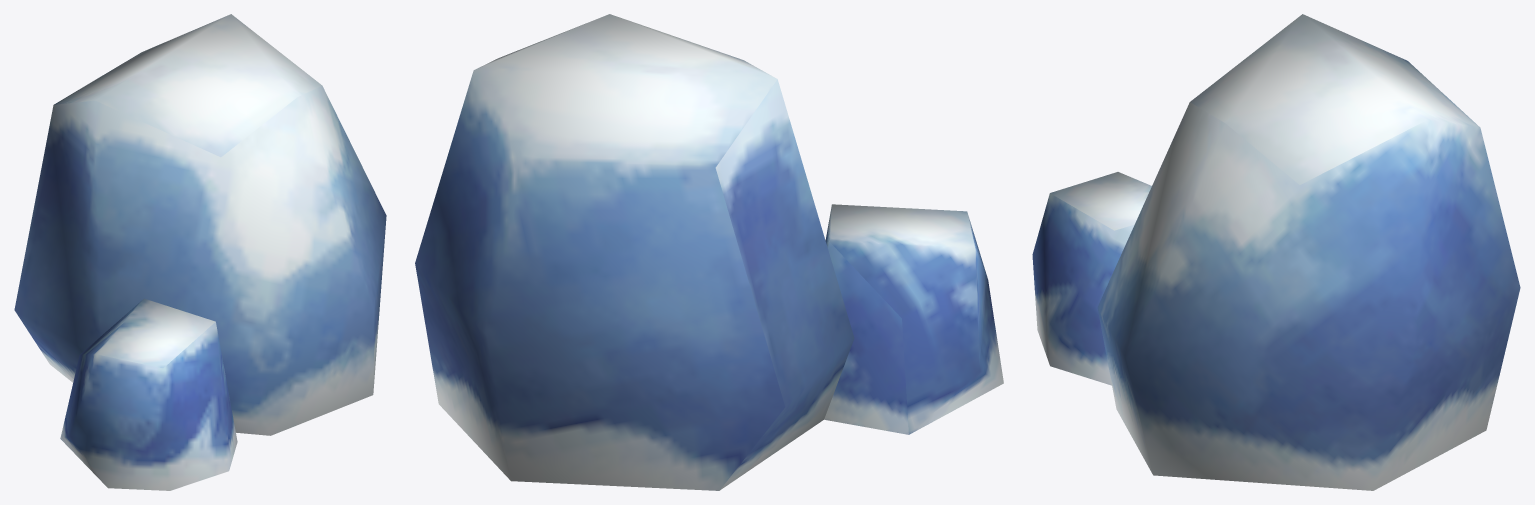
The model's file is SM_stoneB_05.fbx.
3 renders of one model, left to right at view 1: azimuth 30°, elevation 25°; view 2: azimuth 150°, elevation 25°; view 3: azimuth 270°, elevation 25°, orthographic. The views are drawn at different scales.
Visible parts, largest first — view 1: SM_stoneB_05; view 2: SM_stoneB_05; view 3: SM_stoneB_05.
Boxes of the visible parts, x1,y1,x2,y2 form: SM_stoneB_05: (14, 14, 386, 490); SM_stoneB_05: (415, 14, 1003, 490); SM_stoneB_05: (1032, 14, 1520, 490).
Bounding box in the file's own units: 0.675 × 0.5203 × 0.6711.
